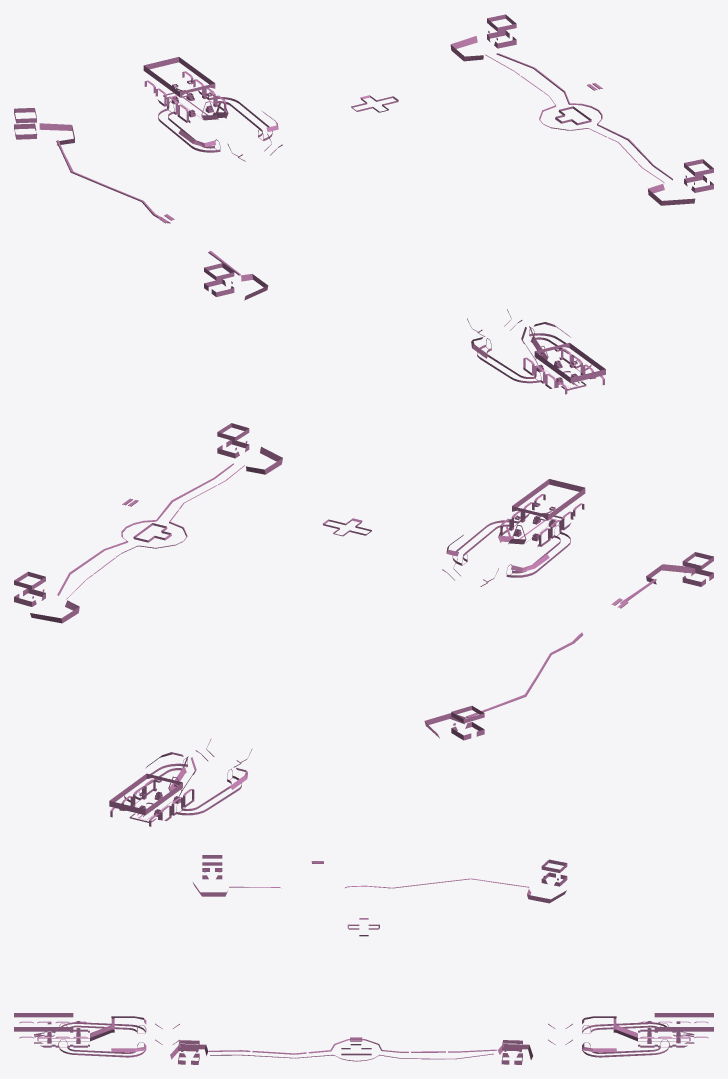
The model's file is cluster_13.fbx.
The picture shows the model from 3 angles, top to bottom: view 1: azimuth 30°, elevation 25°; view 2: azimuth 150°, elevation 25°; view 3: azimuth 270°, elevation 25°; orthographic projection. The views are drawn at different scales.
Visible parts, largest first — view 1: cluster_13; view 2: cluster_13; view 3: cluster_13.
Part boxes in pixels (x1,y1,x2,y2): cluster_13: (14,14,713,394); cluster_13: (14,423,713,826); cluster_13: (14,855,713,1064).
Size of the model in its own units: 1057409 by 293511 by 1613939.
